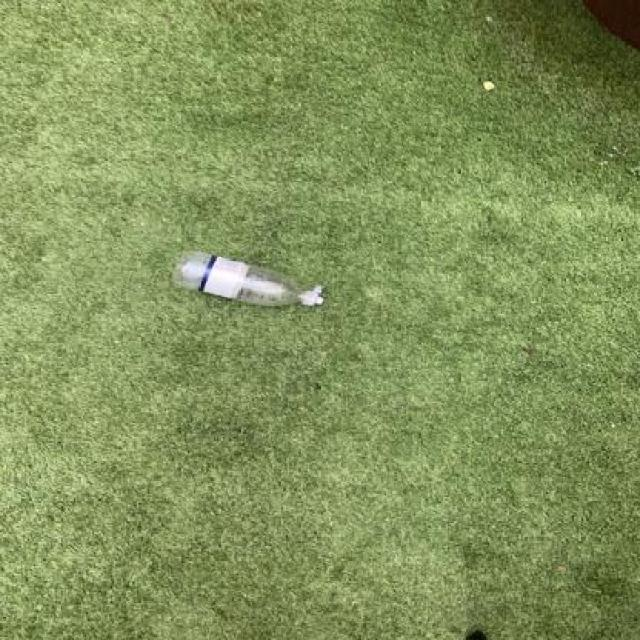trash: (159, 244, 330, 316)
